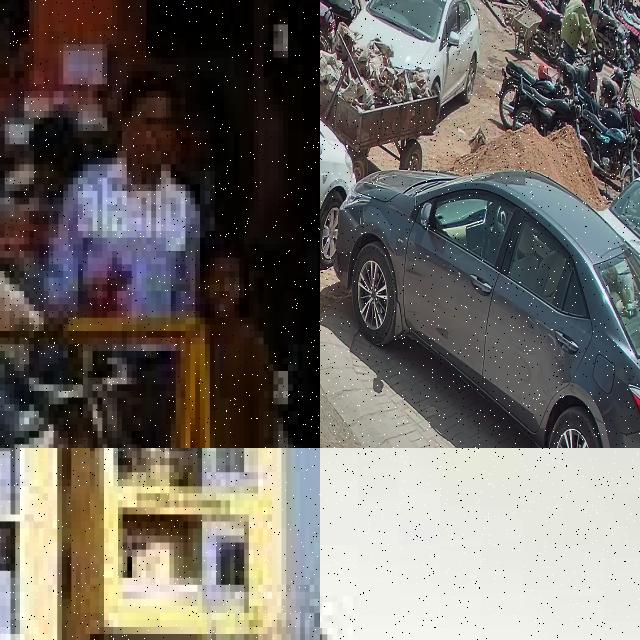bike: (0, 297, 205, 448), (496, 57, 562, 129), (510, 74, 582, 138), (581, 104, 637, 180), (576, 81, 631, 130), (558, 51, 600, 102), (528, 0, 562, 62), (601, 60, 635, 105), (598, 9, 618, 61), (320, 0, 356, 28), (630, 105, 640, 139)
car: (333, 167, 640, 448), (320, 448, 593, 640), (348, 0, 479, 117), (320, 41, 356, 333), (607, 175, 640, 294)
